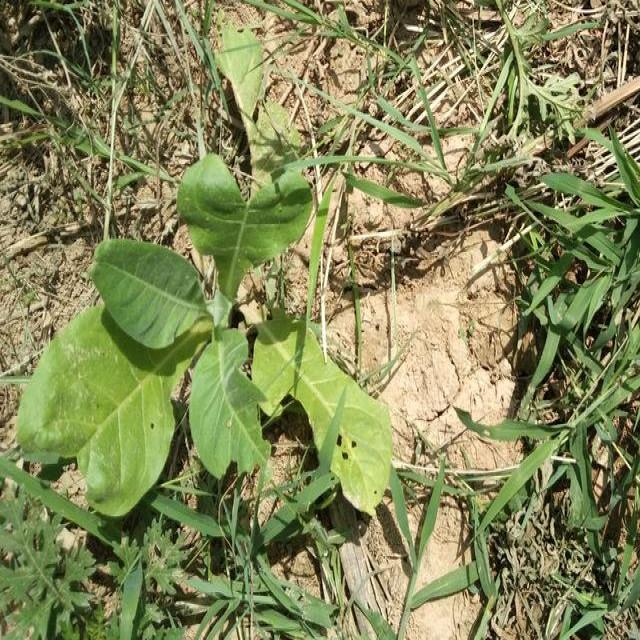crop: (40, 63, 392, 520)
